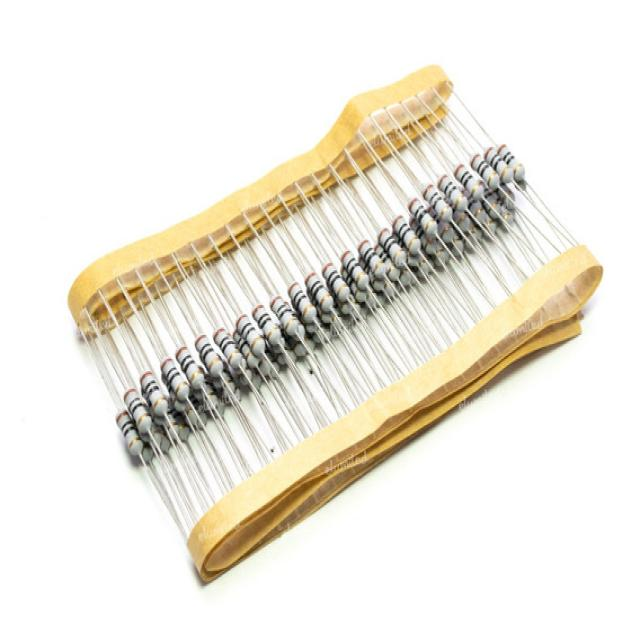Resistor: (416, 184, 464, 254), (138, 372, 174, 432), (302, 273, 336, 327), (287, 282, 320, 335), (252, 306, 286, 357), (482, 145, 523, 184), (116, 408, 146, 460), (322, 263, 352, 312), (160, 358, 190, 402), (175, 346, 205, 389), (378, 227, 407, 269), (236, 317, 266, 357), (470, 152, 502, 189), (454, 164, 484, 200), (392, 216, 419, 254), (126, 396, 150, 432)
